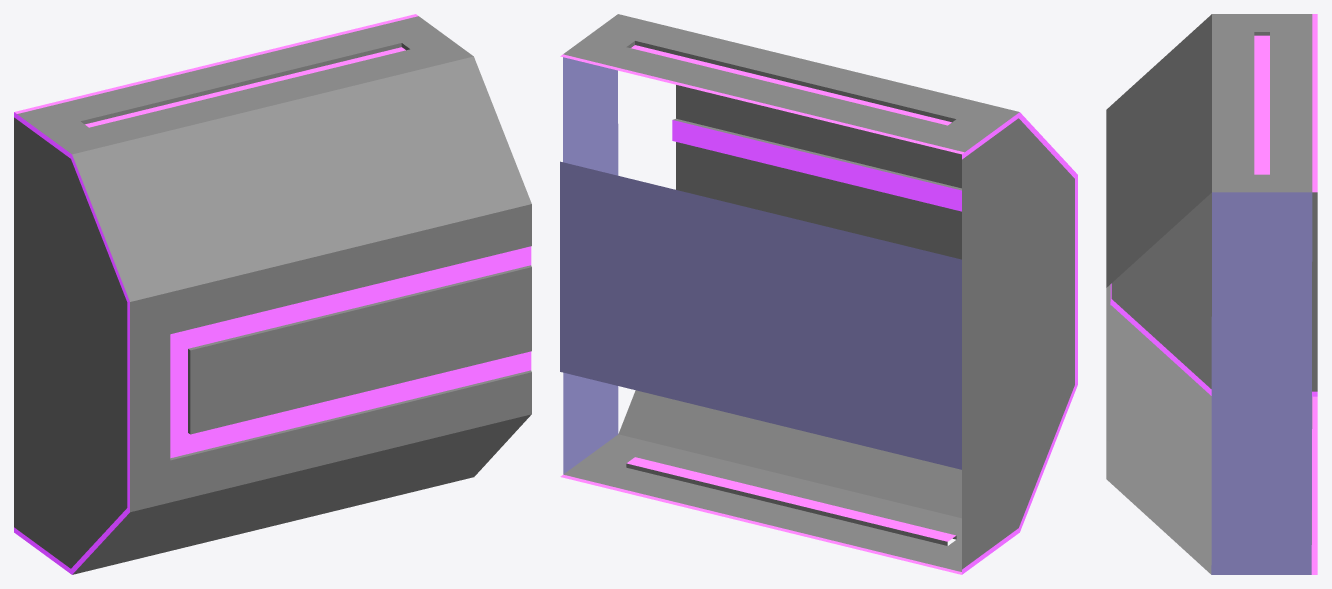
Rendered from PlatformEndFlat.FBX.
3 views of the same model, side by side, from view 1: azimuth 30°, elevation 25°; view 2: azimuth 150°, elevation 25°; view 3: azimuth 270°, elevation 25° (orthographic). The views are drawn at different scales.
Visible parts, largest first — view 1: PlatformEndFlat; view 2: PlatformEndFlat; view 3: PlatformEndFlat.
Boxes of the visible parts, x1=… form: PlatformEndFlat: x1=14, y1=14, x2=531, y2=574; PlatformEndFlat: x1=560, y1=14, x2=1077, y2=574; PlatformEndFlat: x1=1106, y1=14, x2=1317, y2=574.
Bounding box in the file's own units: 100 × 50 × 100.
